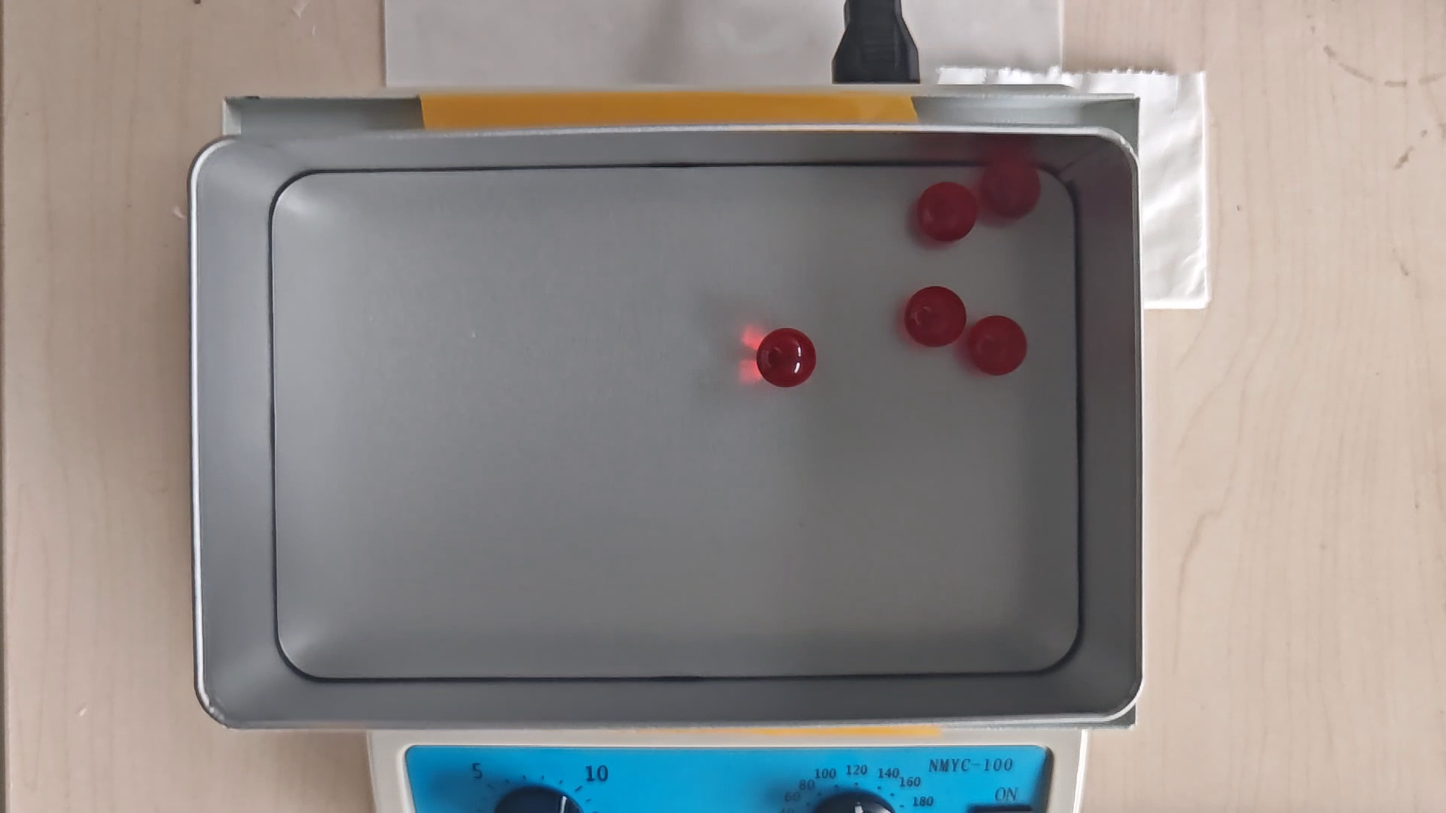ball: (975, 161, 1040, 221), (758, 325, 819, 388), (908, 286, 966, 349), (919, 184, 977, 242), (969, 318, 1026, 377)
container: (267, 171, 1078, 681)
